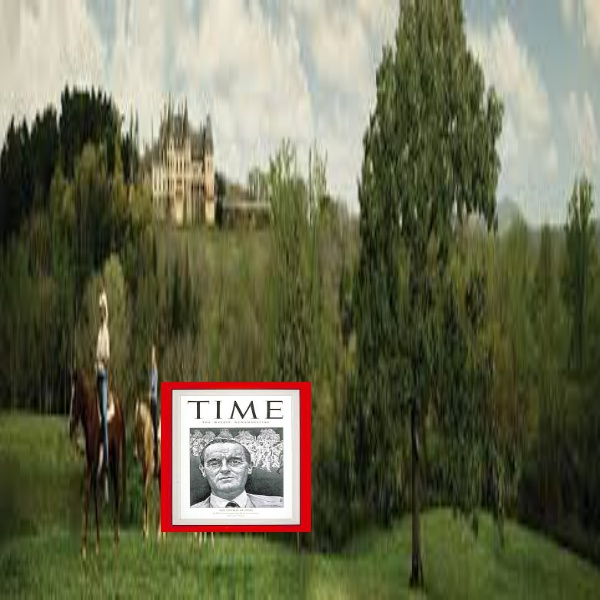time_cover: (152, 375, 318, 541)
